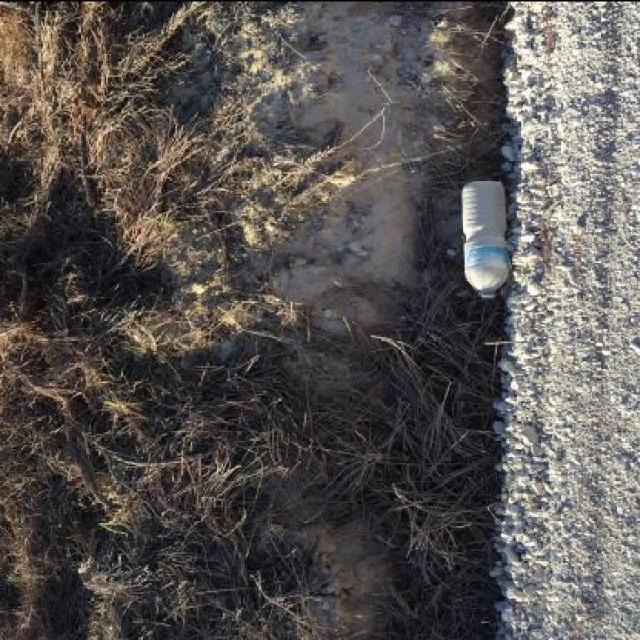plastic: (460, 177, 509, 298)
